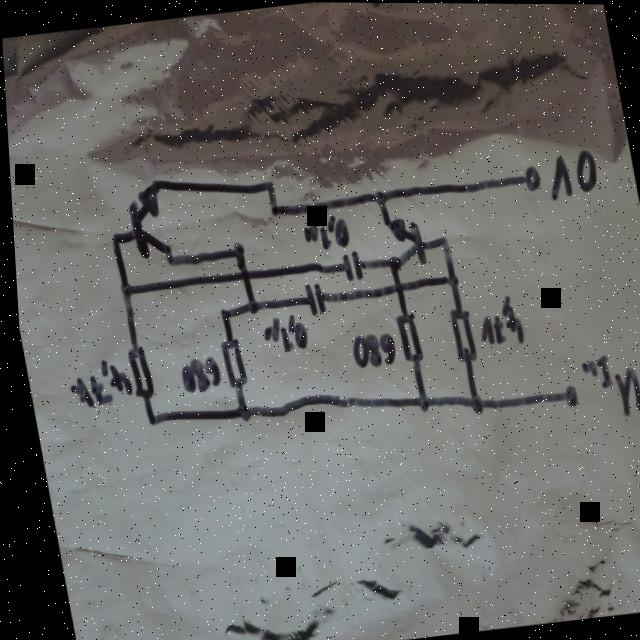capacitor: (298, 279, 324, 317), (334, 248, 362, 283)
crossover: (231, 266, 250, 284), (387, 279, 403, 294)
junction: (230, 402, 247, 423), (439, 269, 456, 289), (227, 239, 243, 259), (464, 393, 479, 414), (411, 391, 426, 412), (383, 254, 399, 273), (241, 296, 257, 315), (370, 188, 386, 207), (115, 281, 130, 300), (434, 232, 449, 248), (261, 176, 274, 194), (213, 306, 227, 321), (266, 201, 279, 217), (106, 230, 118, 247), (141, 412, 152, 427), (162, 254, 172, 267)
resistor: (443, 303, 474, 363), (388, 308, 420, 364), (122, 345, 150, 401), (214, 337, 244, 389)
terminal: (517, 162, 541, 193), (554, 382, 574, 408)
text: (573, 348, 640, 420), (60, 355, 130, 411), (540, 146, 600, 201), (469, 292, 523, 349), (255, 309, 307, 355), (297, 211, 348, 252), (344, 329, 394, 369), (172, 353, 218, 395)
transistor: (121, 182, 170, 260), (380, 213, 424, 267)
